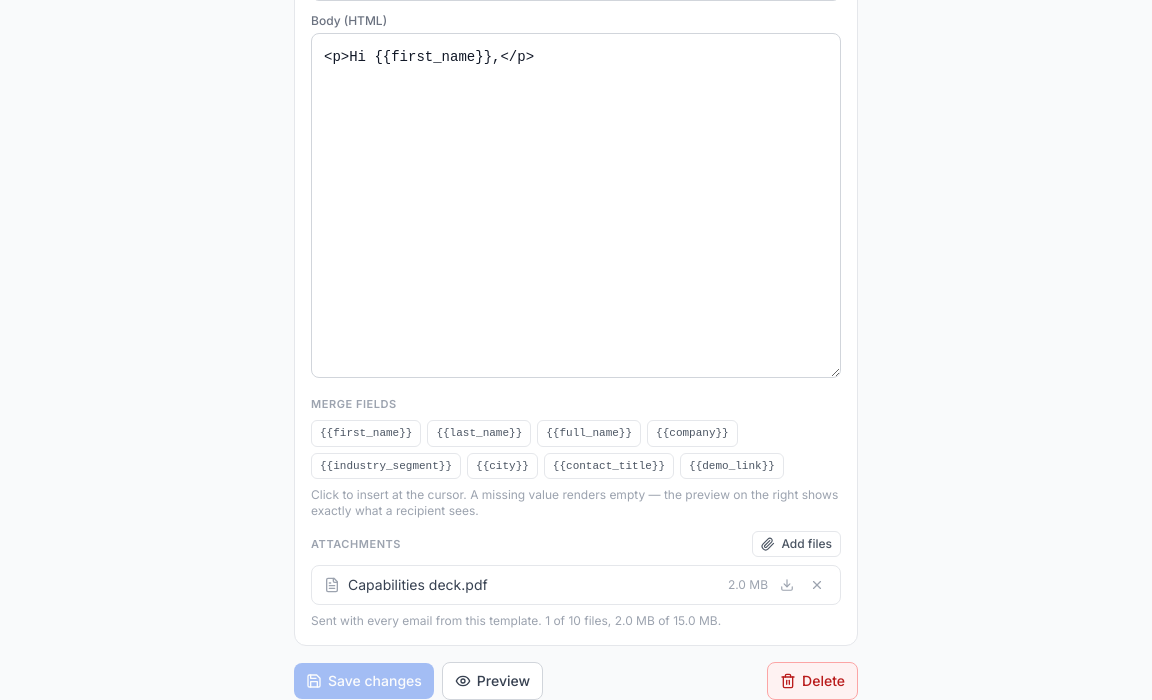
Test: EmailTemplates › renders the preview with sample data
(page scrolled)
Click the button "Preview" at (492, 681), box [442,662,543,699]
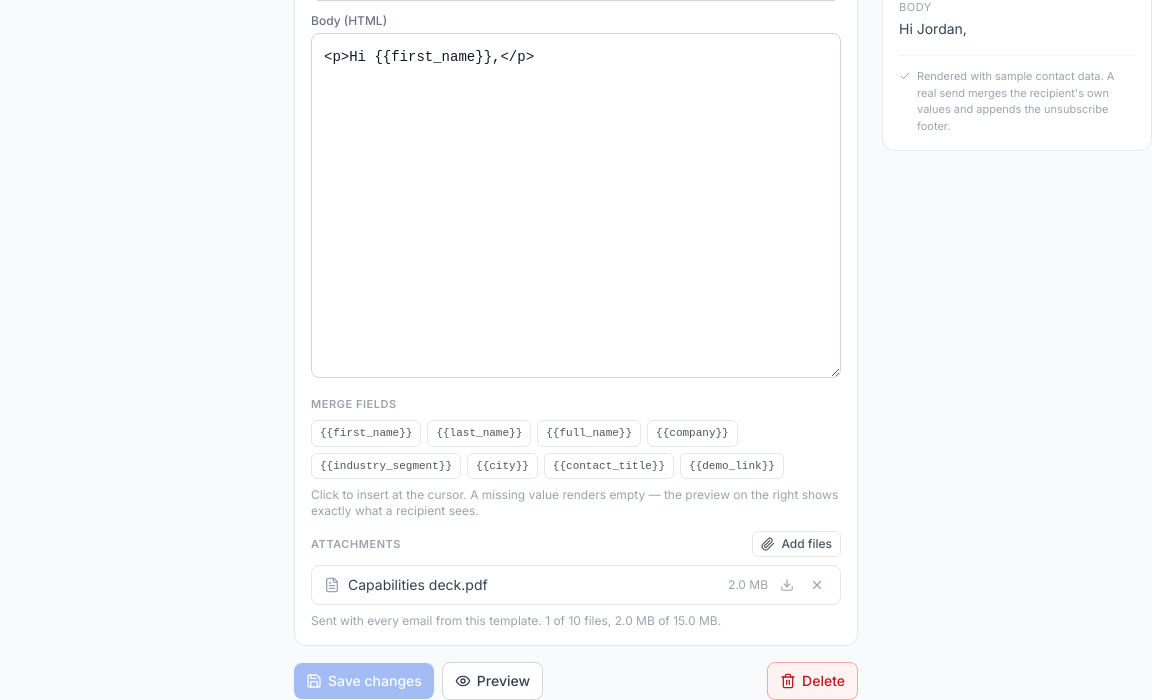
expect the text "Hi Jordan," is shown: met, box [899,20,967,37]
expect the text "appends the unsubscribe footer" is shown: met, box [917,69,1114,132]
